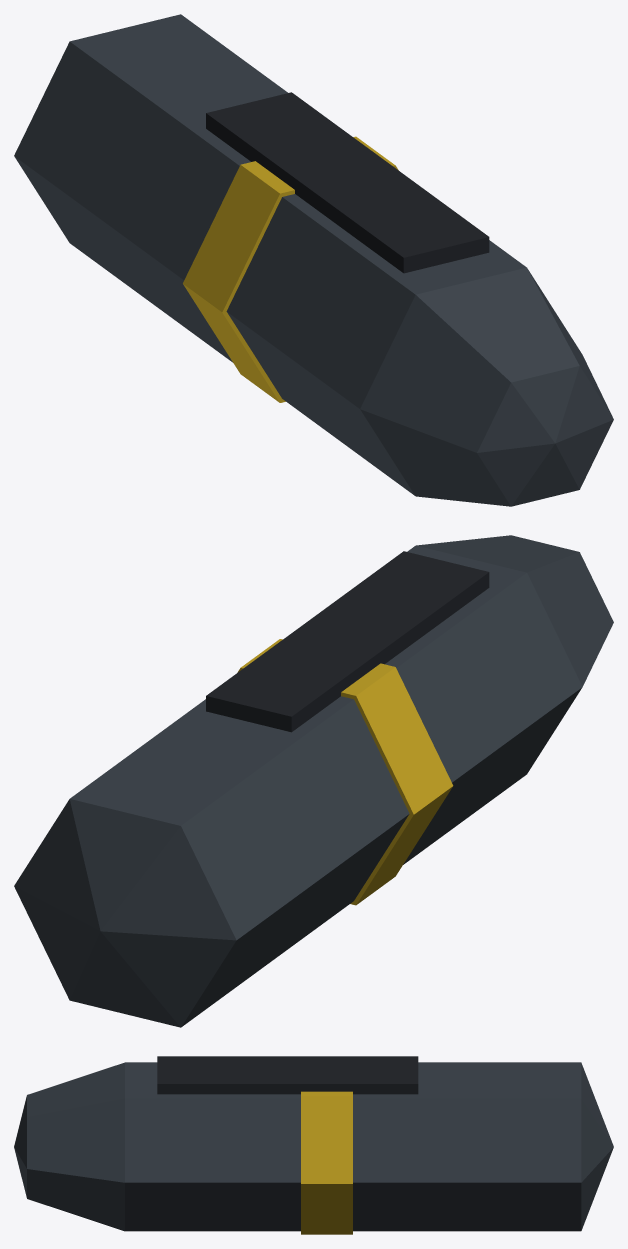
File: klegg_body.obj
The picture shows the model from 3 angles, top to bottom: view 1: azimuth 30°, elevation 25°; view 2: azimuth 150°, elevation 25°; view 3: azimuth 270°, elevation 25°; orthographic projection. The views are drawn at different scales.
Visible parts, largest first — view 1: klegg_body; view 2: klegg_body; view 3: klegg_body.
Boxes of the visible parts, x1,y1,x2,y2 form: klegg_body: [14, 14, 613, 506]; klegg_body: [14, 535, 613, 1027]; klegg_body: [14, 1056, 613, 1234].
Bounding box in the file's own units: 0.27 × 0.2469 × 0.92.
